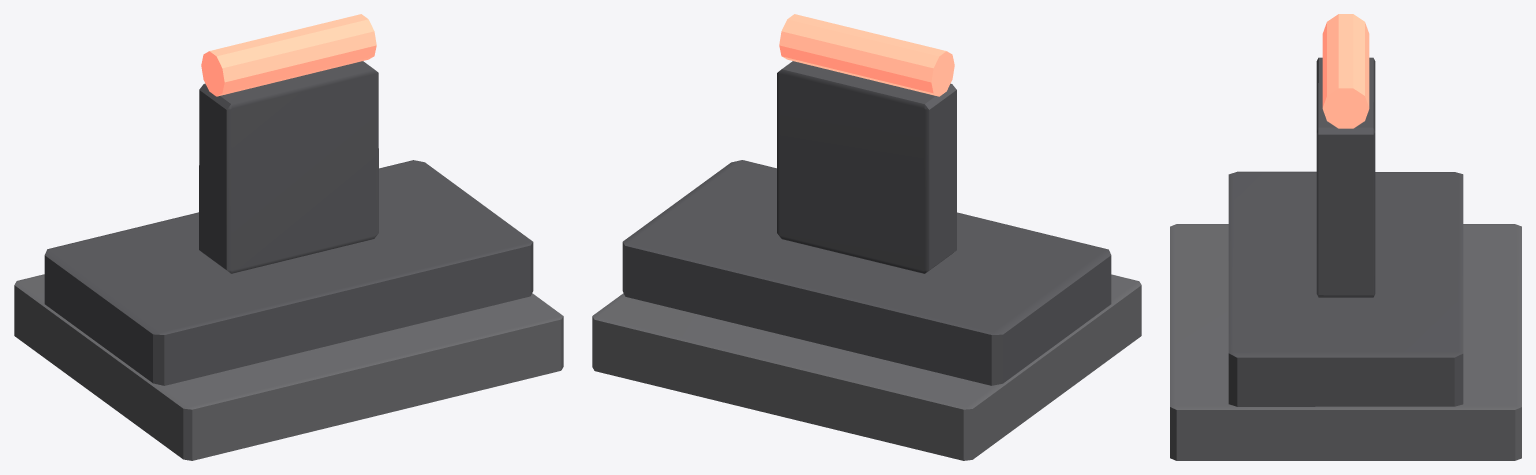
File: hi_fantasma_punto.glb
3 views of the same model, side by side, from view 1: azimuth 30°, elevation 25°; view 2: azimuth 150°, elevation 25°; view 3: azimuth 270°, elevation 25° (orthographic).
Visible parts, largest first — view 1: cabeza, alzador, cabeza_inserto; view 2: cabeza, alzador, cabeza_inserto; view 3: cabeza, alzador, cabeza_inserto.
Boxes of the visible parts, x1,y1,x2,y2 form: cabeza: (44, 61, 533, 385); alzador: (14, 274, 563, 460); cabeza_inserto: (201, 14, 376, 96); cabeza: (622, 61, 1111, 385); alzador: (592, 274, 1141, 460); cabeza_inserto: (779, 14, 954, 96); cabeza: (1228, 57, 1463, 406); alzador: (1170, 224, 1521, 460); cabeza_inserto: (1322, 14, 1369, 128).
Bounding box in the file's own units: 0.03 × 0.0239 × 0.024.
